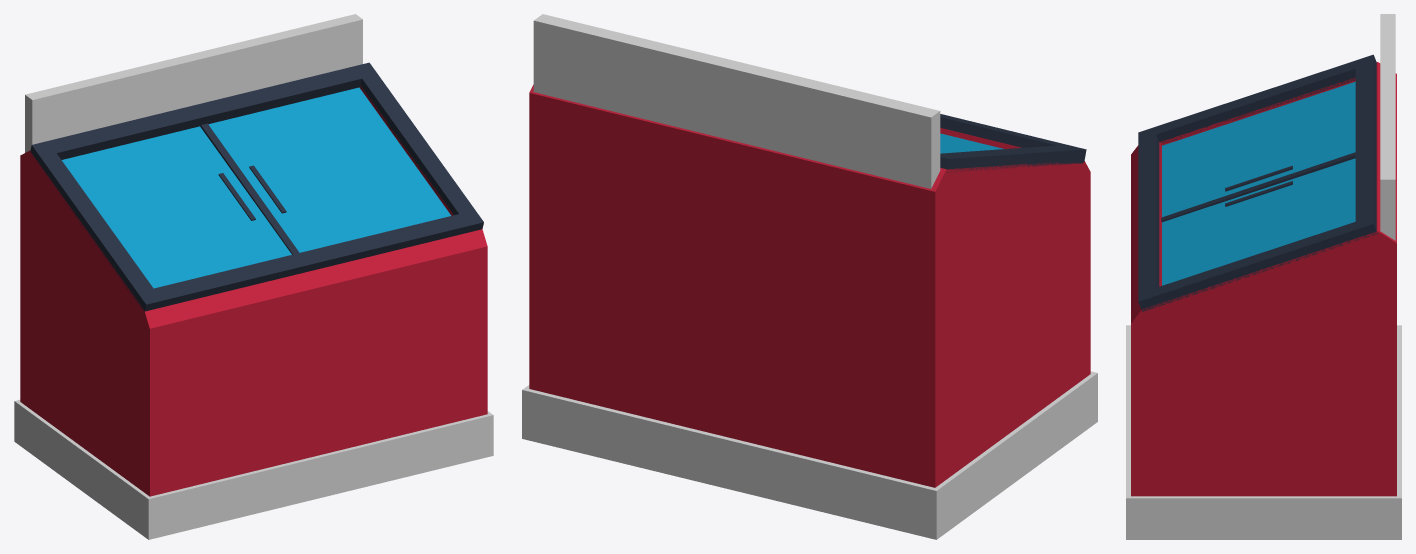
File: Icecreambox.FBX
The picture shows the model from 3 angles, left to right: view 1: azimuth 30°, elevation 25°; view 2: azimuth 150°, elevation 25°; view 3: azimuth 270°, elevation 25°; orthographic projection. The views are drawn at different scales.
Parts seen in each view (by area): view 1: Icebox; view 2: Icebox; view 3: Icebox.
Part boxes in pixels (x1,y1,x2,y2): Icebox: (14, 14, 493, 539); Icebox: (522, 14, 1097, 539); Icebox: (1126, 14, 1401, 539).
Size of the model in its own units: 11.82 by 11.38 by 7.97.
